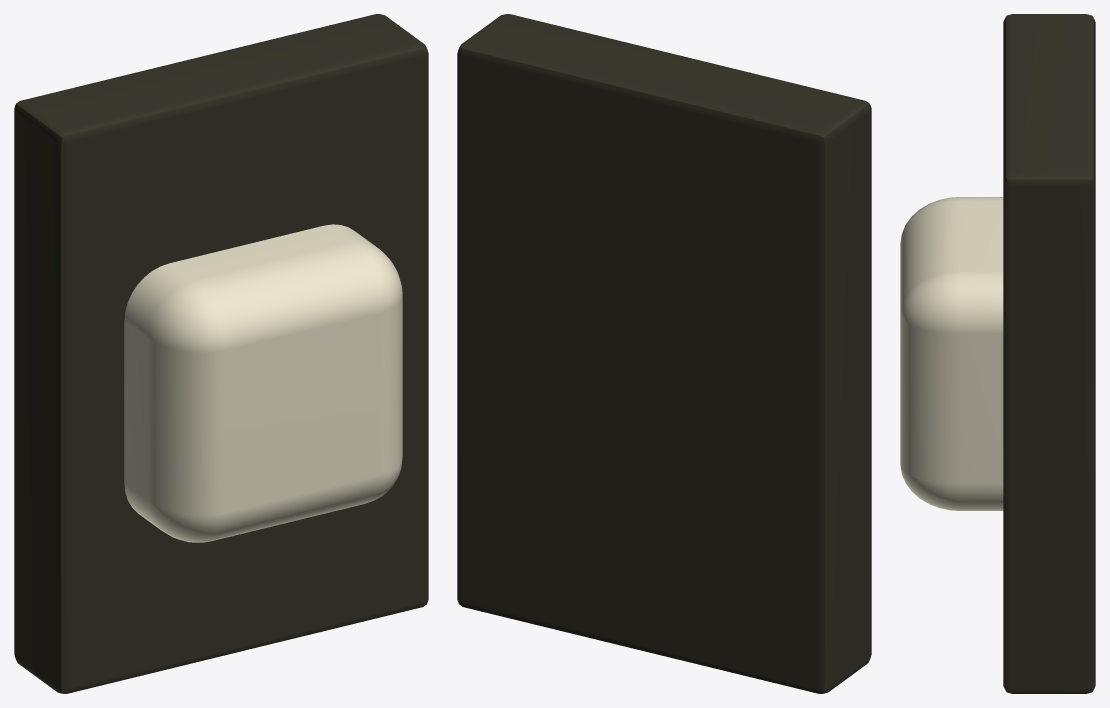
The model's file is Light Switch.fbx.
3 renders of one model, left to right at view 1: azimuth 30°, elevation 25°; view 2: azimuth 150°, elevation 25°; view 3: azimuth 270°, elevation 25°, orthographic. The views are drawn at different scales.
Parts seen in each view (by area): view 1: pCube1, pCube2; view 2: pCube1; view 3: pCube1, pCube2.
Boxes of the visible parts, x1,y1,x2,y2 form: pCube1: (14, 14, 428, 693); pCube2: (124, 224, 402, 542); pCube1: (457, 14, 871, 693); pCube1: (1003, 14, 1095, 693); pCube2: (900, 197, 1003, 510).
Bounding box in the file's own units: 0.0908 × 0.1316 × 0.0448.
